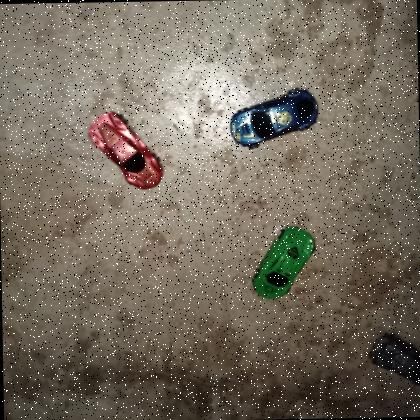Car: (87, 110, 163, 188), (229, 87, 318, 146), (251, 225, 315, 298)
